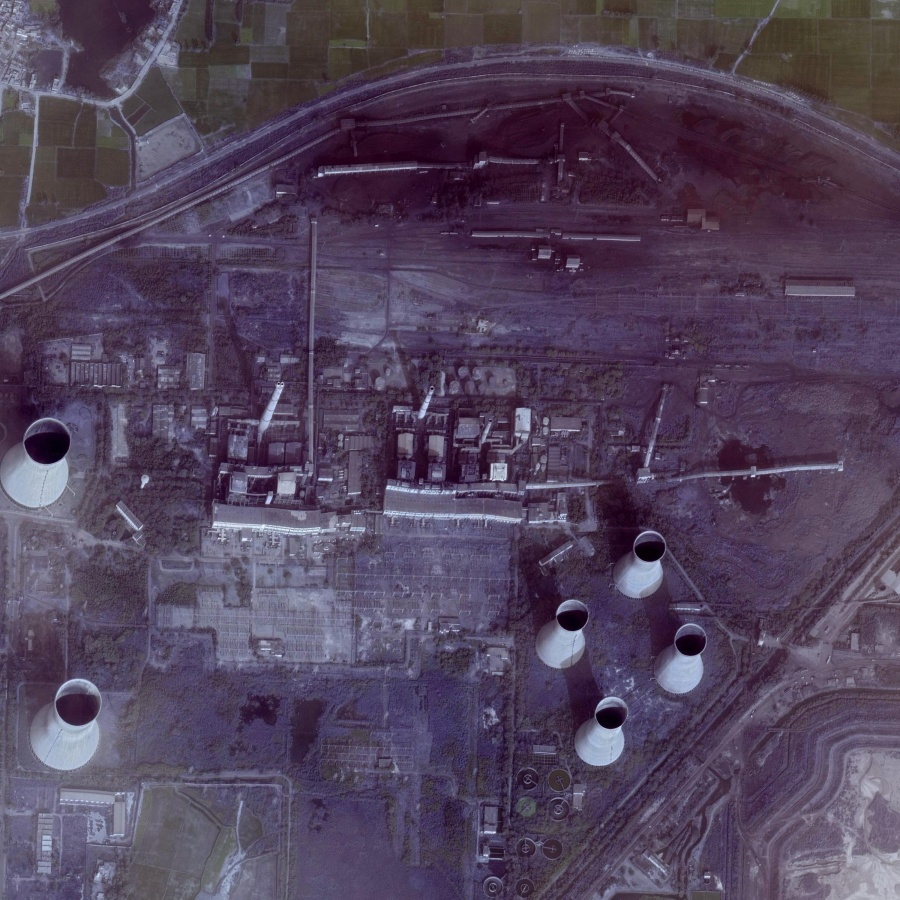PowerPlant: (212, 331, 706, 768)
